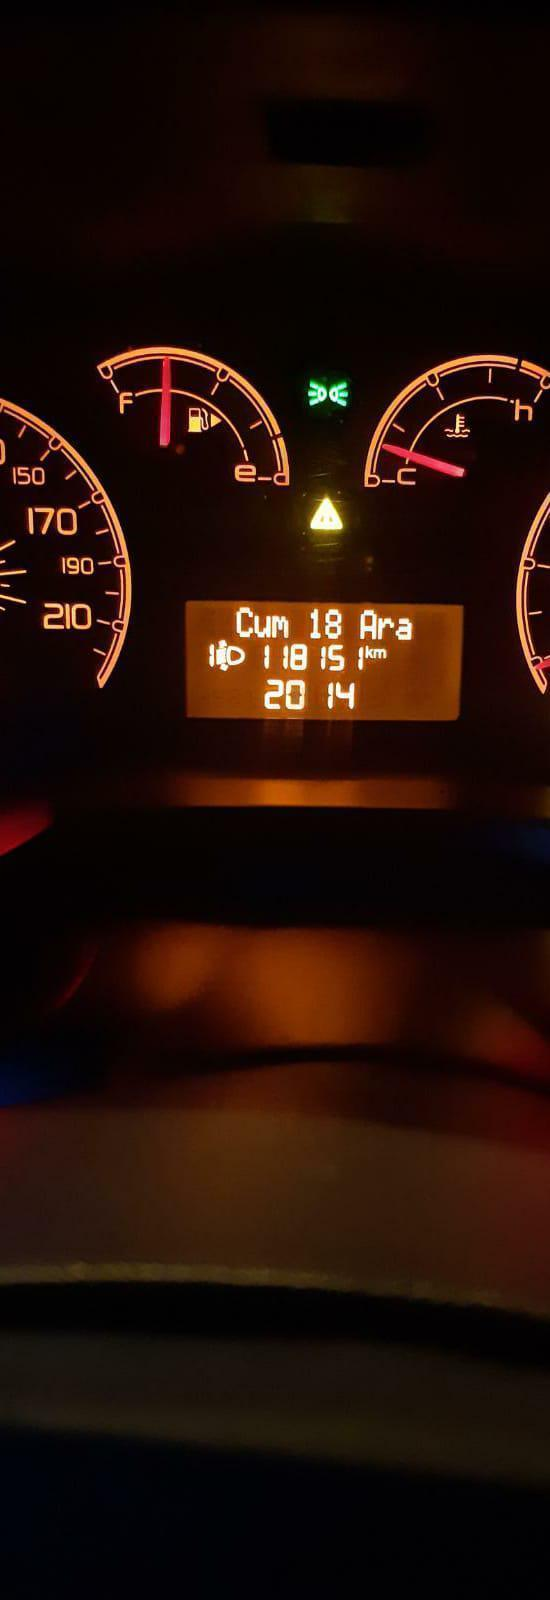0: (284, 678, 307, 711)
1: (307, 606, 323, 640), (260, 642, 272, 670), (323, 678, 334, 710), (205, 640, 215, 669), (279, 643, 289, 671), (354, 645, 364, 672), (317, 643, 326, 672)
2: (263, 677, 284, 712)
4: (335, 679, 357, 710)
5: (327, 642, 346, 672)
8: (323, 606, 344, 640), (290, 642, 309, 671)
X: (234, 605, 253, 639), (358, 608, 377, 640), (395, 615, 414, 641), (253, 613, 271, 639), (271, 614, 290, 640), (377, 615, 394, 641), (373, 647, 387, 659), (364, 643, 373, 660)
odometer: (174, 603, 468, 739)
